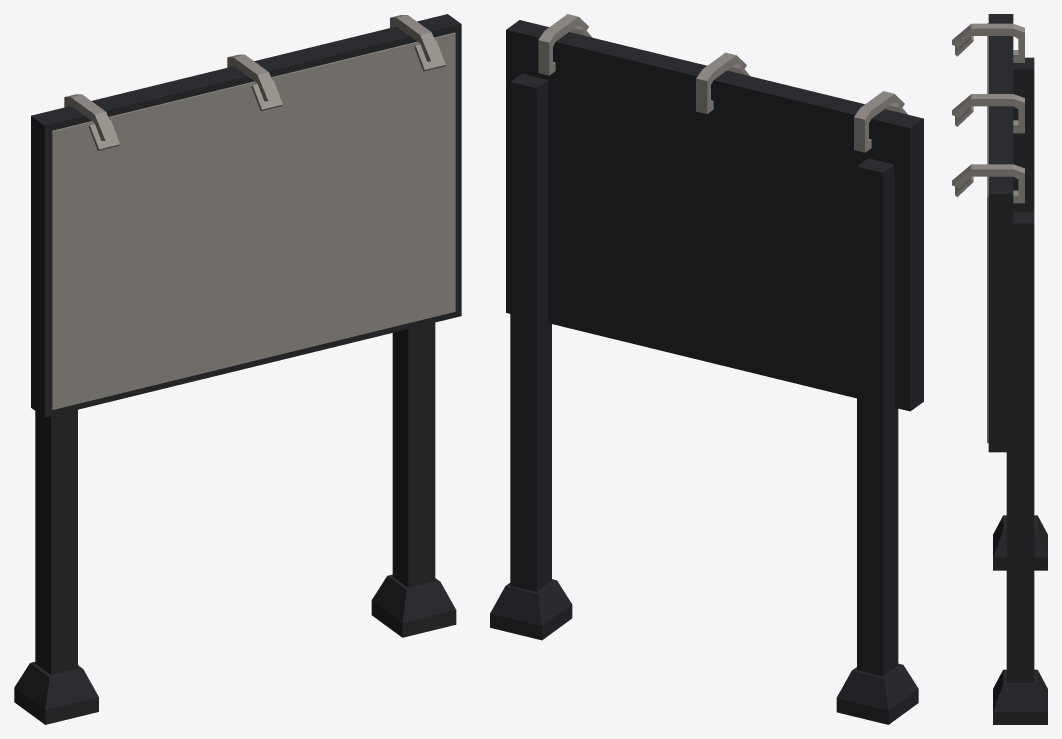
Rendered from Banner_1.fbx.
The picture shows the model from 3 angles, left to right: view 1: azimuth 30°, elevation 25°; view 2: azimuth 150°, elevation 25°; view 3: azimuth 270°, elevation 25°; orthographic projection. The views are drawn at different scales.
Parts seen in each view (by area): view 1: Banner_1; view 2: Banner_1; view 3: Banner_1.
Boxes of the visible parts, x1,y1,x2,y2 form: Banner_1: (14,14,461,724); Banner_1: (490,14,923,724); Banner_1: (952,14,1047,724).
Bounding box in the file's own units: 231 × 323 × 51.96.
